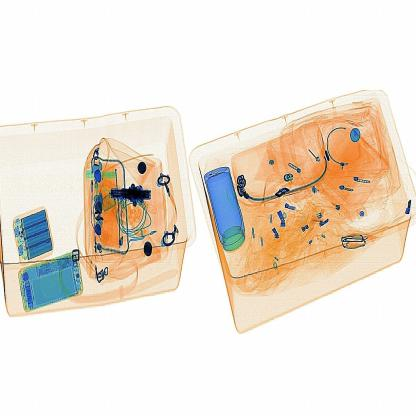scissors: (101, 180, 156, 216)
